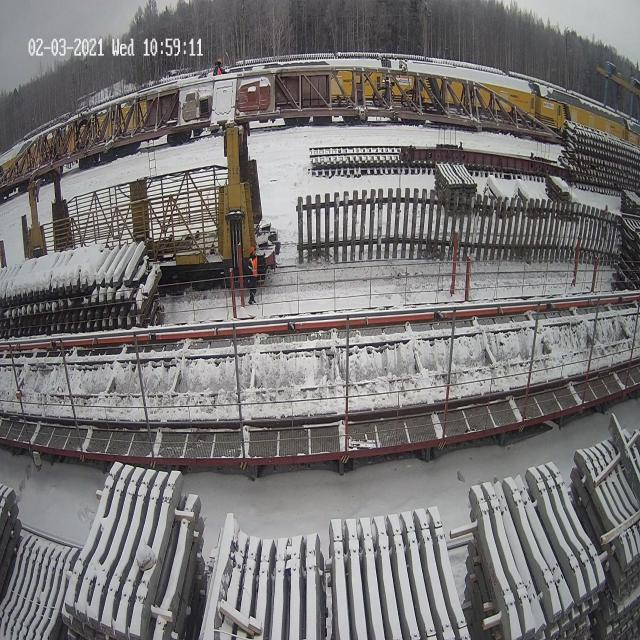Helmet: (249, 247, 255, 256)
Person: (247, 246, 258, 305), (209, 52, 229, 81)
